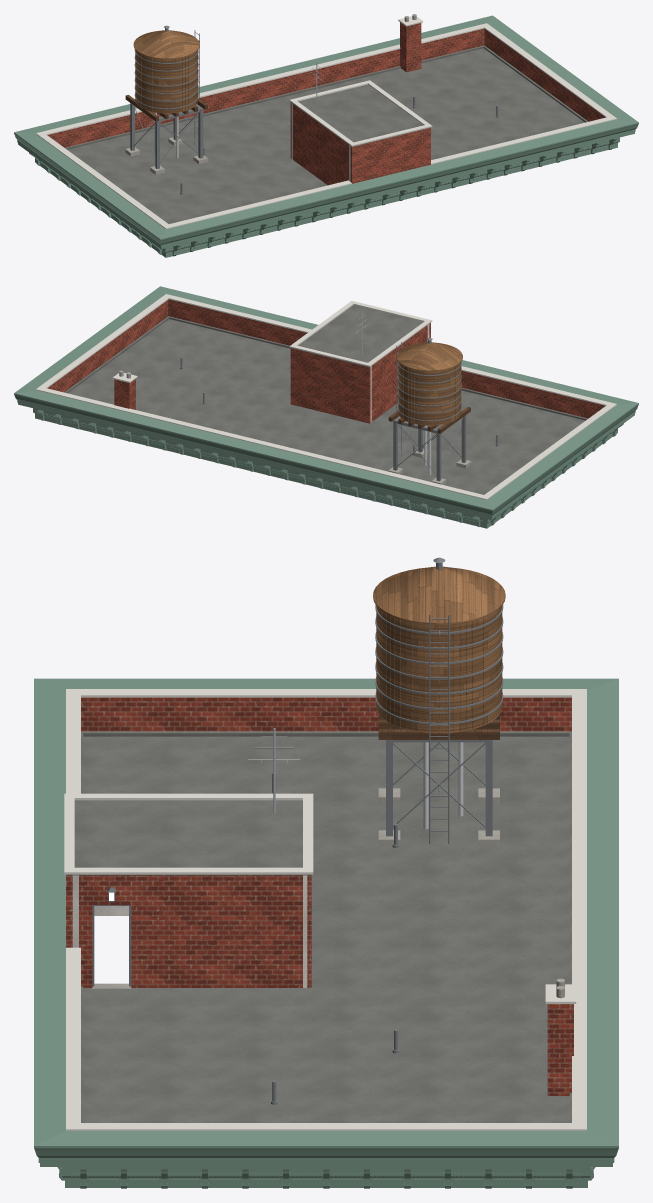
The model's file is roof.glb.
3 views of the same model, one above another, from view 1: azimuth 30°, elevation 25°; view 2: azimuth 150°, elevation 25°; view 3: azimuth 270°, elevation 25° (orthographic). The views are drawn at different scales.
Parts seen in each view (by area): view 1: roof_roofing, roof_cornice, roof_brick, roof_coping, roof_tank, roof_steel_d, roof_conc_s, roof_dkwood; view 2: roof_roofing, roof_cornice, roof_brick, roof_coping, roof_tank, roof_steel_d, roof_dkwood, roof_conc_s; view 3: roof_roofing, roof_cornice, roof_brick, roof_coping, roof_tank, roof_steel_d, roof_conc_s, roof_dkwood, roof_plaster, roof_galv.
Boxes of the visible parts, x1=… form: roof_roofing: x1=65, y1=45, x2=588, y2=223; roof_cornice: x1=14, y1=15, x2=638, y2=257; roof_brick: x1=47, y1=22, x2=605, y2=185; roof_coping: x1=36, y1=16, x2=616, y2=229; roof_tank: x1=133, y1=30, x2=199, y2=113; roof_steel_d: x1=130, y1=25, x2=498, y2=194; roof_conc_s: x1=125, y1=14, x2=416, y2=174; roof_dkwood: x1=125, y1=95, x2=207, y2=121; roof_roofing: x1=64, y1=305, x2=587, y2=494; roof_cornice: x1=14, y1=286, x2=638, y2=528; roof_brick: x1=47, y1=299, x2=605, y2=423; roof_coping: x1=36, y1=294, x2=616, y2=499; roof_tank: x1=396, y1=342, x2=462, y2=425; roof_steel_d: x1=180, y1=337, x2=498, y2=481; roof_dkwood: x1=388, y1=407, x2=470, y2=433; roof_conc_s: x1=119, y1=370, x2=471, y2=484; roof_roofing: x1=66, y1=731, x2=571, y2=1122; roof_cornice: x1=34, y1=678, x2=618, y2=1188; roof_brick: x1=66, y1=697, x2=573, y2=1095; roof_coping: x1=64, y1=689, x2=586, y2=1130; roof_tank: x1=373, y1=566, x2=505, y2=733; roof_steel_d: x1=92, y1=557, x2=503, y2=1104; roof_conc_s: x1=92, y1=788, x2=564, y2=998; roof_dkwood: x1=378, y1=625, x2=499, y2=739; roof_plaster: x1=72, y1=875, x2=307, y2=987; roof_galv: x1=423, y1=742, x2=463, y2=829.
Bounding box in the file's own units: 25.48 × 7.16 × 13.48.
15 materials, 7 textured.
